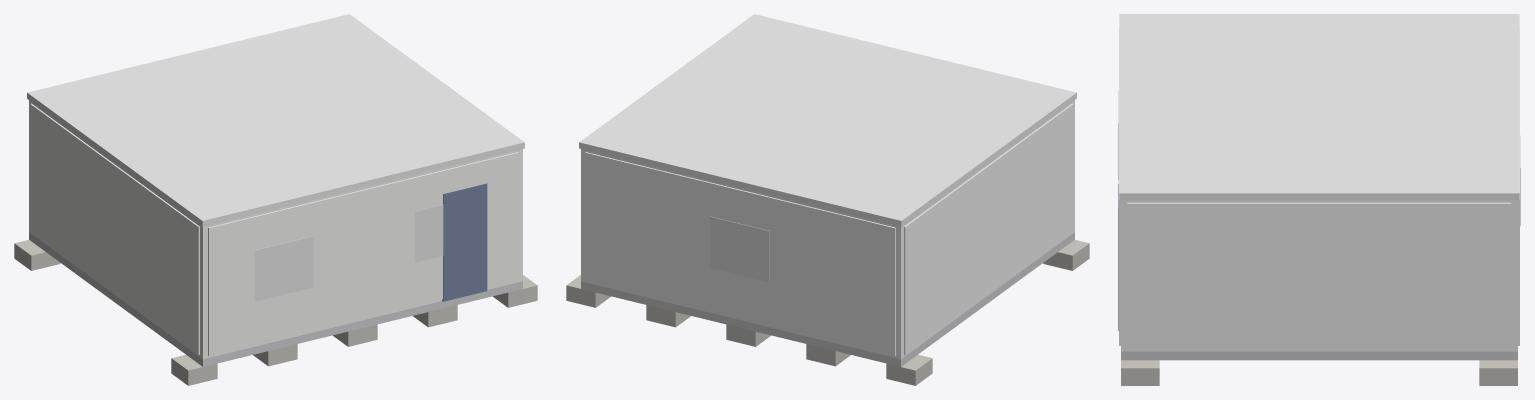
Rendered from Studio-20-Base-AngelWhite-LOD2.glb.
The picture shows the model from 3 angles, left to right: view 1: azimuth 30°, elevation 25°; view 2: azimuth 150°, elevation 25°; view 3: azimuth 270°, elevation 25°; orthographic projection. The views are drawn at different scales.
Visible parts, largest first — view 1: RoofMain, ExteriorPanelsStandard, EntryDoor, WindowsStandard, FoundationBlocks, ExteriorShell, BaseFrame; view 2: ExteriorPanelsStandard, RoofMain, FoundationBlocks, BaseFrame, ExteriorShell, WindowsStandard; view 3: RoofMain, ExteriorPanelsStandard, ExteriorShell, BaseFrame, FoundationBlocks.
Part boxes in pixels (bbox=[...]): RoofMain: bbox=[27, 14, 524, 226]; ExteriorPanelsStandard: bbox=[30, 103, 518, 355]; EntryDoor: bbox=[442, 183, 487, 301]; WindowsStandard: bbox=[254, 204, 443, 301]; FoundationBlocks: bbox=[14, 240, 537, 385]; ExteriorShell: bbox=[29, 100, 522, 359]; BaseFrame: bbox=[29, 232, 522, 366]; ExteriorPanelsStandard: bbox=[585, 103, 1073, 355]; RoofMain: bbox=[579, 14, 1076, 226]; FoundationBlocks: bbox=[566, 240, 1089, 385]; BaseFrame: bbox=[581, 232, 1074, 366]; ExteriorShell: bbox=[581, 100, 1074, 359]; WindowsStandard: bbox=[710, 216, 769, 281]; RoofMain: bbox=[1119, 14, 1519, 200]; ExteriorPanelsStandard: bbox=[1119, 27, 1519, 349]; ExteriorShell: bbox=[1121, 200, 1517, 351]; BaseFrame: bbox=[1121, 351, 1517, 360]; FoundationBlocks: bbox=[1121, 360, 1517, 385].
Bounding box in the file's own units: 7.14 × 3.17 × 6.24.
